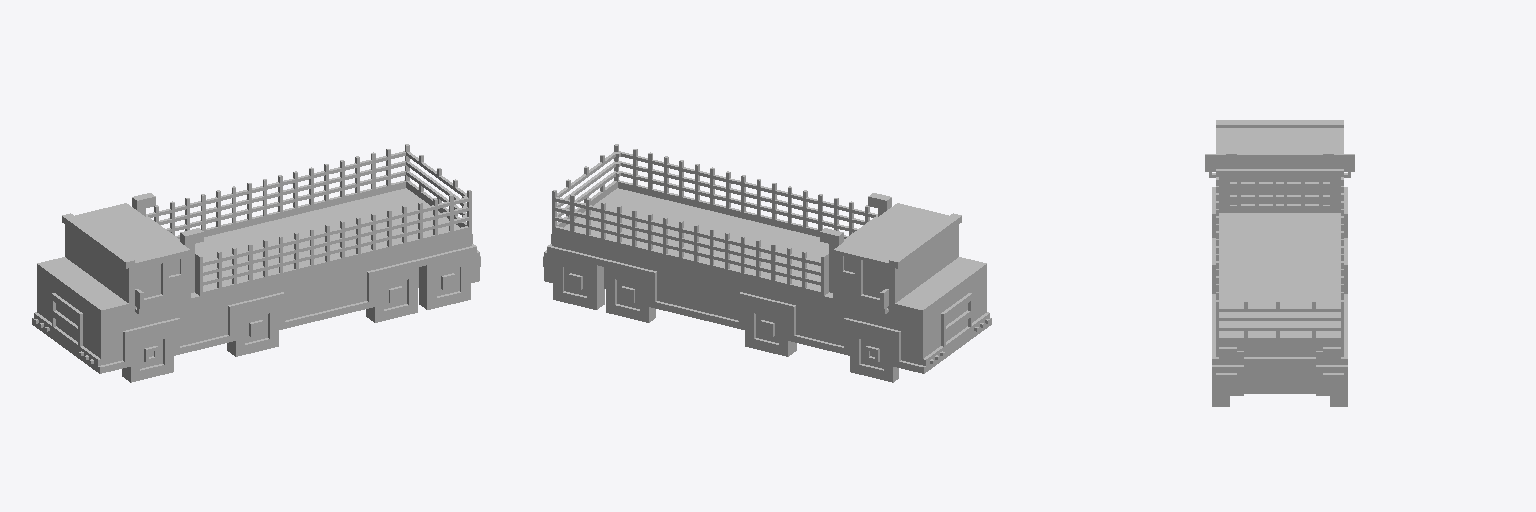
File: alll cars3-80.obj
3 renders of one model, left to right at view 1: azimuth 30°, elevation 25°; view 2: azimuth 150°, elevation 25°; view 3: azimuth 270°, elevation 25°, orthographic.
Visible parts, largest first — view 1: object 1; view 2: object 1; view 3: object 1.
Boxes of the visible parts, x1,y1,x2,y2 form: object 1: [32, 144, 480, 382]; object 1: [543, 144, 991, 382]; object 1: [1205, 120, 1354, 406].
Size of the model in its own units: 12.5 by 3.9 by 4.2.